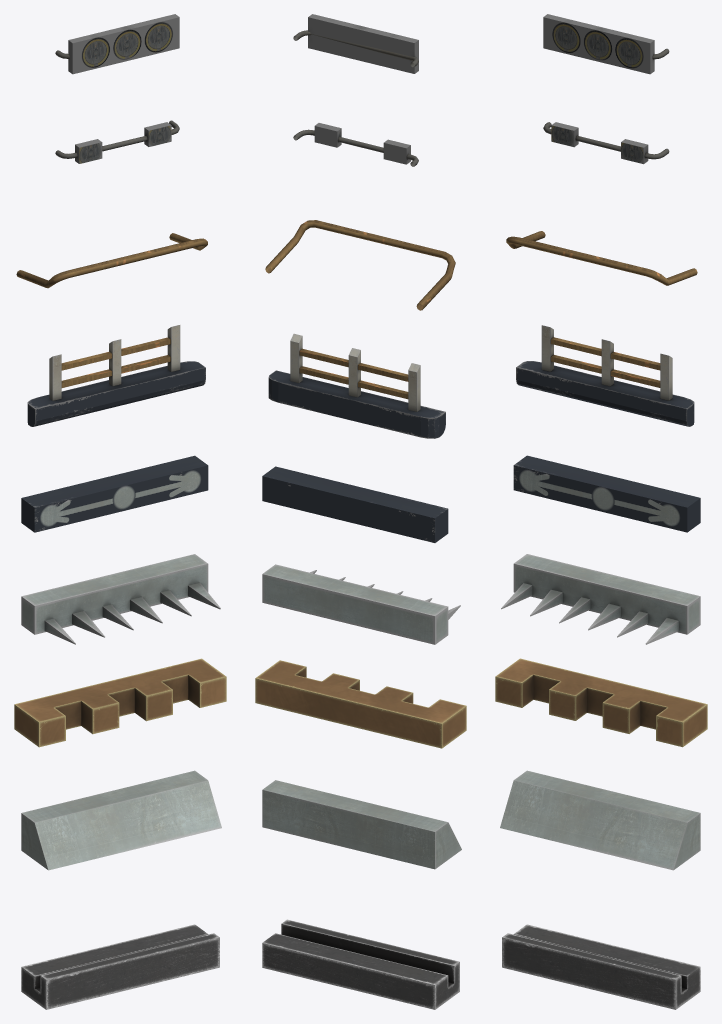
The model's file is barrs2.fbx.
3 renders of one model, left to right at view 1: azimuth 30°, elevation 25°; view 2: azimuth 150°, elevation 25°; view 3: azimuth 330°, elevation 25°, orthographic.
Visible parts, largest first — view 1: lowbar2, lowbar3, lowbar4, lowbar5, bullbar5, lowbar1, topbar5, bullbar4, topbar4; view 2: lowbar3, lowbar2, lowbar4, bullbar5, lowbar5, lowbar1, topbar5, bullbar4, topbar4; view 3: lowbar2, lowbar3, lowbar4, lowbar5, bullbar5, lowbar1, topbar5, bullbar4, topbar4.
Part boxes in pixels (x1,y1,x2,y2): lowbar2: (21, 770, 221, 870); lowbar3: (21, 924, 219, 1009); lowbar4: (14, 658, 226, 747); lowbar5: (21, 554, 220, 644); bullbar5: (27, 325, 205, 426); lowbar1: (21, 455, 208, 532); topbar5: (55, 14, 179, 74); bullbar4: (16, 233, 207, 288); topbar4: (55, 120, 179, 163); lowbar3: (262, 919, 459, 1009); lowbar2: (262, 780, 461, 869); lowbar4: (255, 660, 466, 748); bullbar5: (268, 333, 445, 438); lowbar5: (262, 564, 460, 644); lowbar1: (262, 466, 448, 542); topbar5: (293, 14, 418, 73); bullbar4: (265, 220, 455, 310); topbar4: (293, 123, 418, 166); lowbar2: (500, 770, 700, 870); lowbar3: (502, 924, 700, 1009); lowbar4: (495, 658, 707, 747); lowbar5: (501, 554, 700, 644); bullbar5: (516, 325, 694, 426); lowbar1: (513, 455, 700, 532); topbar5: (543, 14, 669, 74); bullbar4: (506, 231, 697, 285); topbar4: (543, 122, 669, 164).
Size of the model in its own units: 485 by 2355 by 216.
